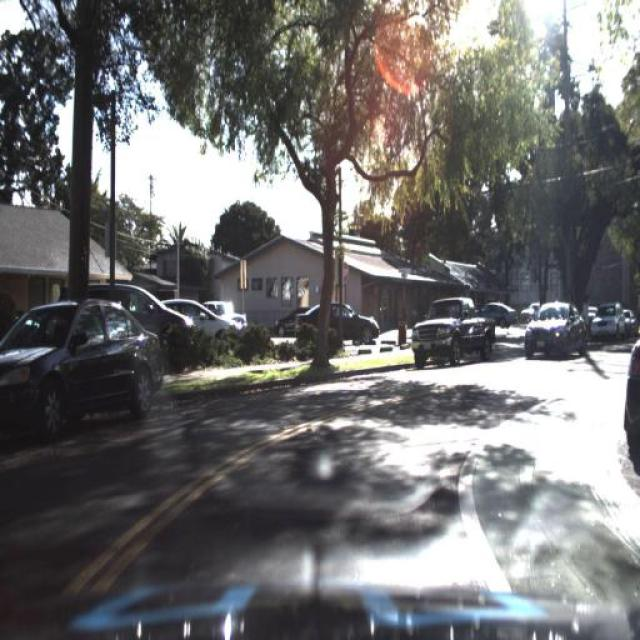car: (0, 298, 168, 448), (117, 280, 198, 362), (413, 298, 499, 362), (523, 299, 591, 360), (280, 302, 368, 342), (162, 303, 240, 346), (191, 303, 241, 367), (470, 284, 521, 334), (590, 297, 626, 347), (270, 300, 308, 346), (203, 300, 251, 324), (273, 304, 309, 332), (618, 298, 636, 339), (582, 298, 602, 330)
